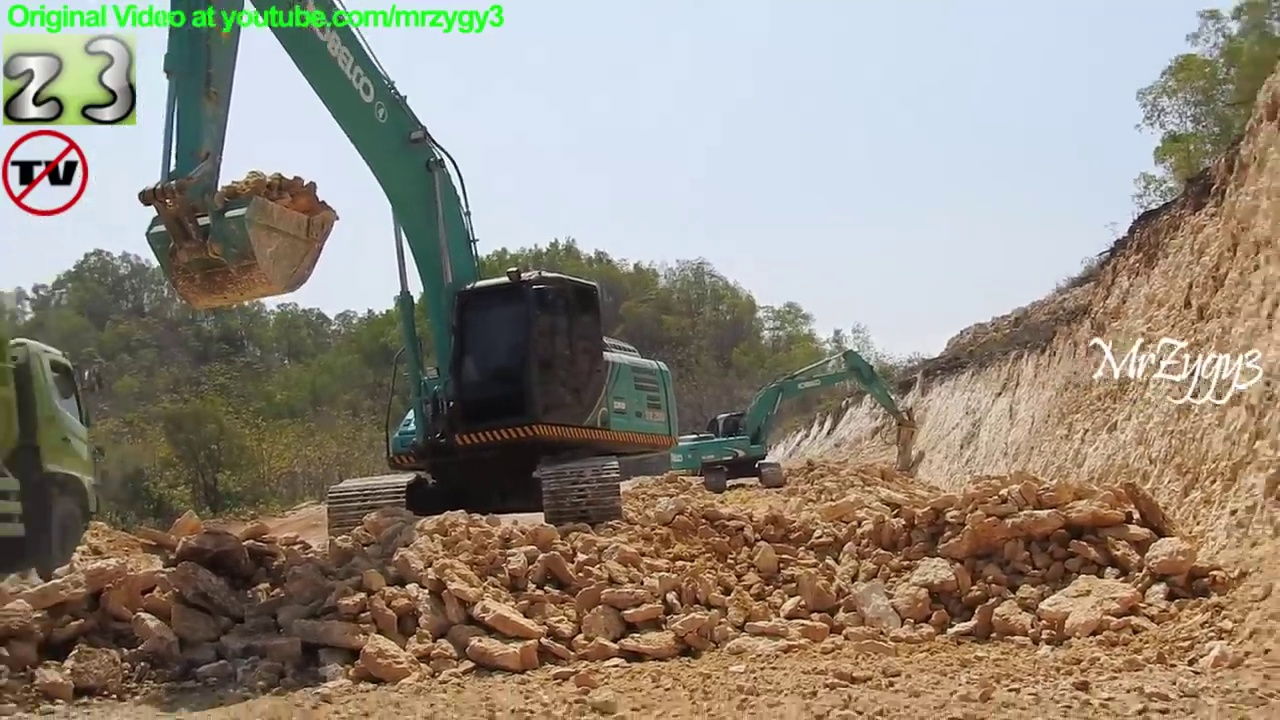excavator: (134, 1, 689, 571)
excavator breaker: (664, 345, 923, 499)
truck: (1, 328, 115, 599)
